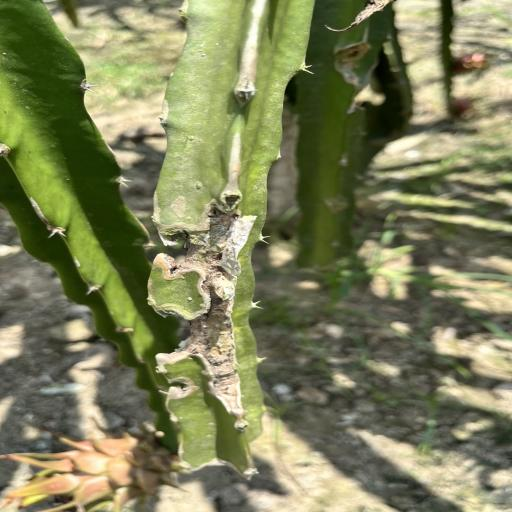stemcanker: (197, 418, 221, 440), (188, 46, 214, 61), (179, 134, 204, 146), (187, 134, 203, 146), (191, 179, 205, 192), (0, 44, 12, 59), (196, 52, 214, 62), (60, 174, 74, 183), (186, 295, 196, 307), (210, 41, 225, 48), (183, 296, 195, 303), (0, 51, 11, 58)
